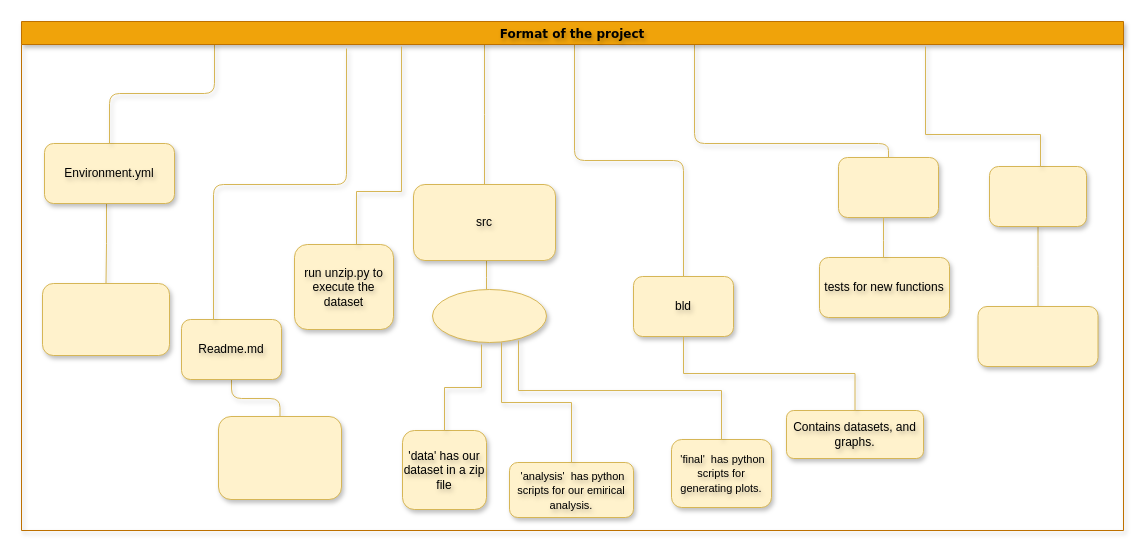
Some shapes in this 1147 by 555 pixel diagram are drawn without their labels. Each missing label, with the centre of its shape:
"climate_shocks" belongs at pixel 490 317.
"Contains packages and their versions required." belongs at pixel 107 320.
"paper" belongs at pixel 1038 198.
"tests" belongs at pixel 889 188.
"tex files, and references." belongs at pixel 1038 338.
"Welcome introduction to the repository, stating the project's objectives, etc." belongs at pixel 281 459.
